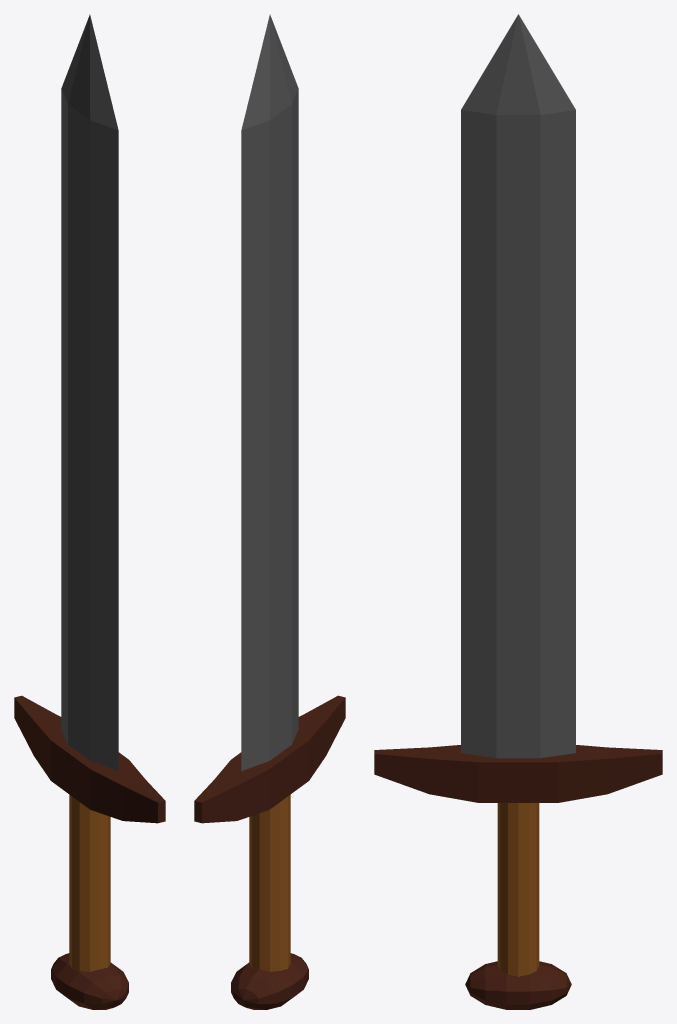
File: Sword.fbx
The picture shows the model from 3 angles, left to right: view 1: azimuth 30°, elevation 25°; view 2: azimuth 150°, elevation 25°; view 3: azimuth 270°, elevation 25°; orthographic projection.
Visible parts, largest first — view 1: Sword; view 2: Sword; view 3: Sword.
Part boxes in pixels (x1,y1,x2,y2): Sword: (14, 14, 165, 1009); Sword: (194, 14, 345, 1009); Sword: (374, 14, 662, 1009).
Bounding box in the file's own units: 9.27 × 157 × 41.53.
